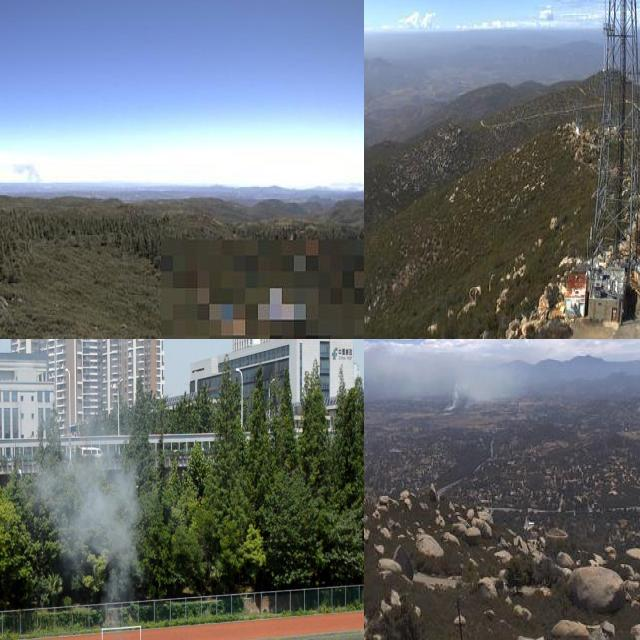smoke: (36, 437, 141, 586), (364, 339, 531, 413), (0, 155, 42, 191)
